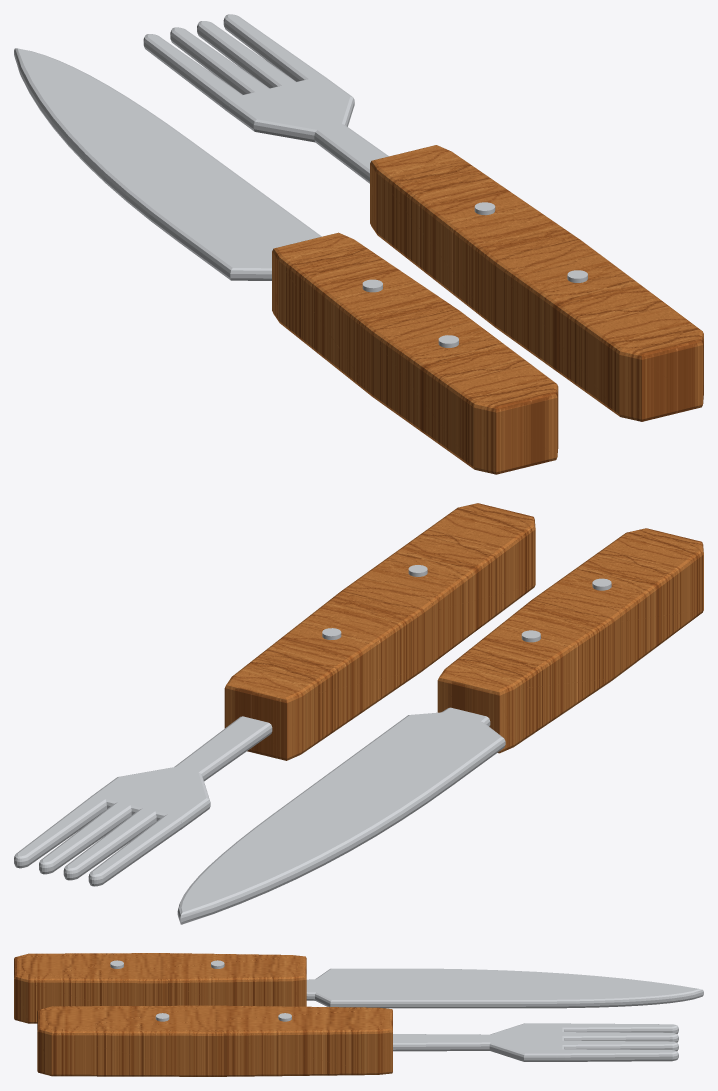
Rendered from CUB-28.glb.
3 renders of one model, top to bottom at view 1: azimuth 30°, elevation 25°; view 2: azimuth 150°, elevation 25°; view 3: azimuth 270°, elevation 25°, orthographic. The views are drawn at different scales.
Bounding box in the file's own units: 0.0666 × 0.017 × 0.2222.
8 materials, 2 textured.
